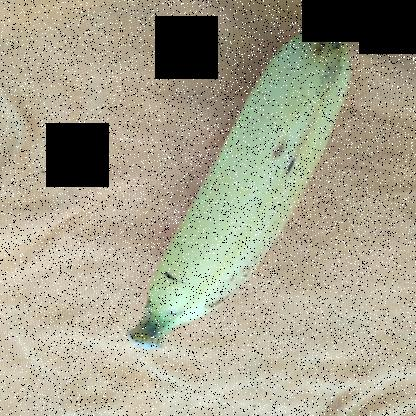ripe: (148, 21, 358, 327)
